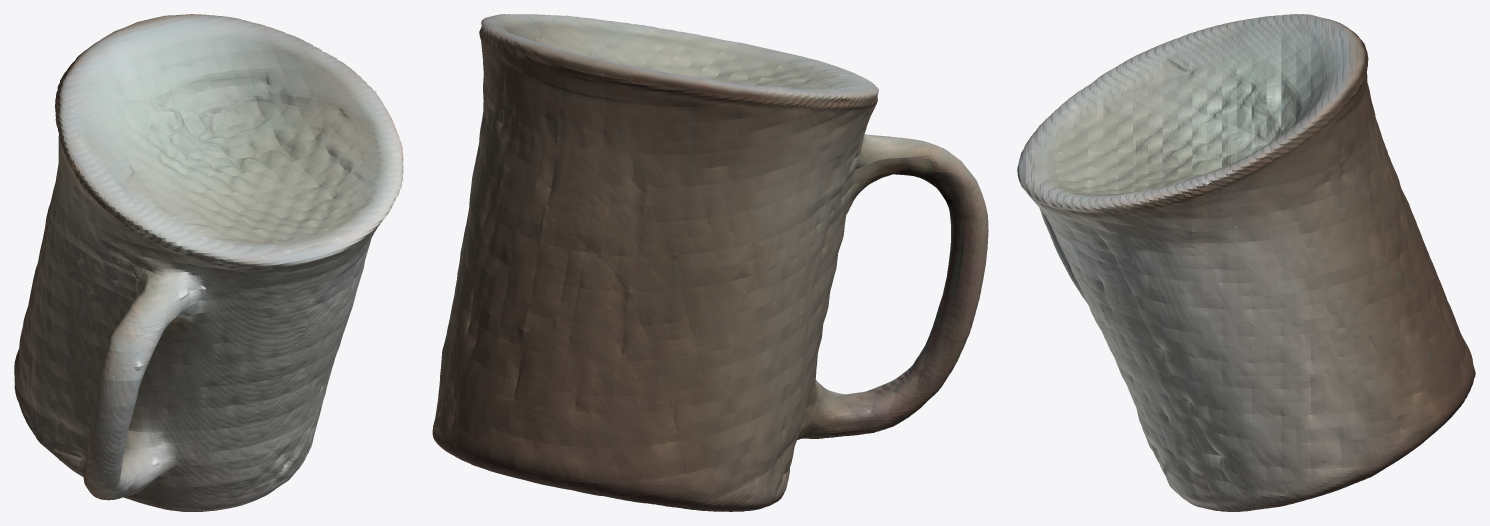
The model's file is local_20260928_230830.glb.
3 views of the same model, side by side, from view 1: azimuth 30°, elevation 25°; view 2: azimuth 150°, elevation 25°; view 3: azimuth 270°, elevation 25° (orthographic). The views are drawn at different scales.
Parts seen in each view (by area): view 1: geometry_0; view 2: geometry_0; view 3: geometry_0.
Part boxes in pixels (x1,y1,x2,y2): geometry_0: (14,14,403,511); geometry_0: (432,14,988,511); geometry_0: (1017,14,1475,511).
Bounding box in the file's own units: 0.7663 × 0.8787 × 0.8422.
Materials: 1 (1 with a texture image).
